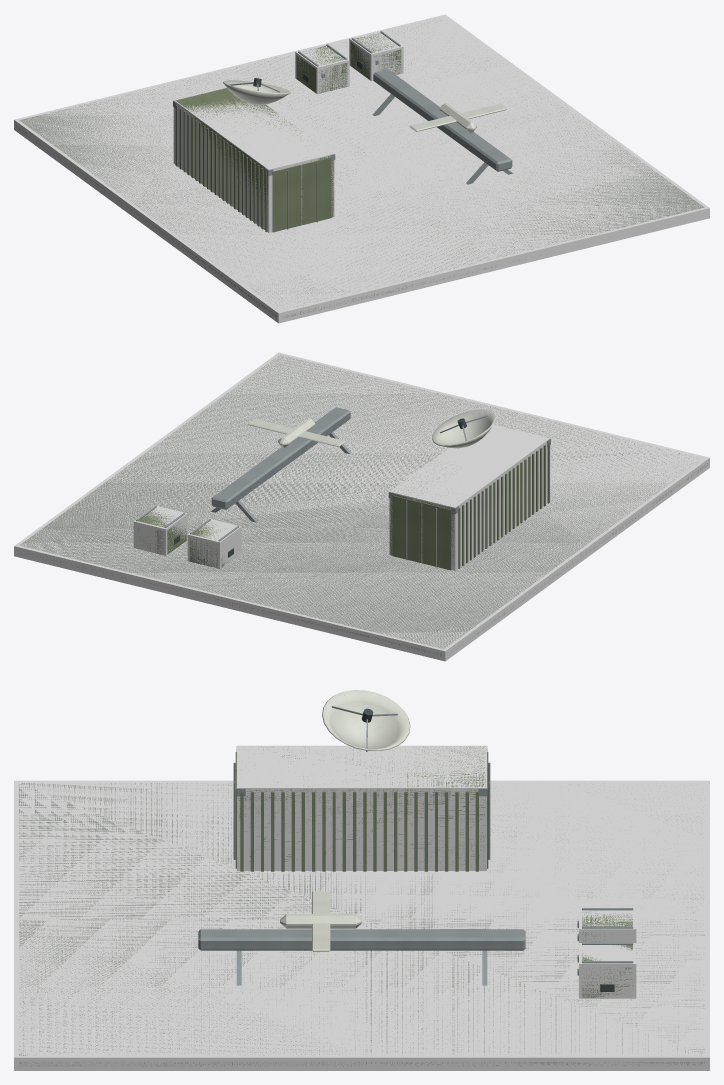
Rendered from DroneGroundStation.fbx.
The picture shows the model from 3 angles, top to bottom: view 1: azimuth 30°, elevation 25°; view 2: azimuth 150°, elevation 25°; view 3: azimuth 270°, elevation 25°; orthographic projection. The views are drawn at different scales.
Parts seen in each view (by area): view 1: COL_Static, LOD0; view 2: COL_Static, LOD0; view 3: COL_Static, LOD0.
Part boxes in pixels (left/top/right/bottom): COL_Static: left=14, top=14, right=709, bottom=323; LOD0: left=16, top=19, right=704, bottom=318; COL_Static: left=14, top=352, right=709, bottom=661; LOD0: left=19, top=354, right=707, bottom=656; COL_Static: left=14, top=745, right=709, bottom=1070; LOD0: left=19, top=690, right=704, bottom=1066.
Size of what is drawn, in the model's own units: 1600 by 431 by 1700.
